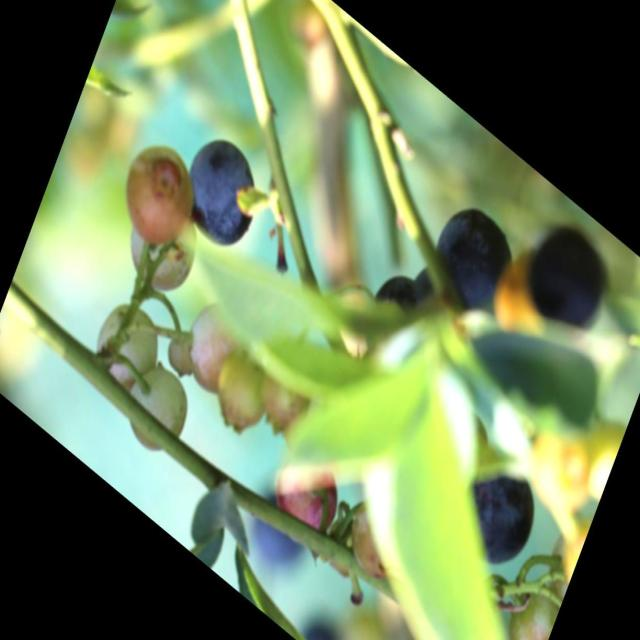blueberry: (411, 179, 527, 348), (444, 438, 546, 590), (516, 204, 616, 347), (173, 117, 268, 260)
blueberry-halfripe: (108, 119, 208, 265), (263, 434, 351, 559)
blueberry-unripe: (114, 186, 205, 314), (116, 350, 200, 474), (86, 284, 170, 408), (170, 286, 250, 412), (207, 340, 277, 446), (336, 487, 408, 588), (493, 562, 563, 640)
